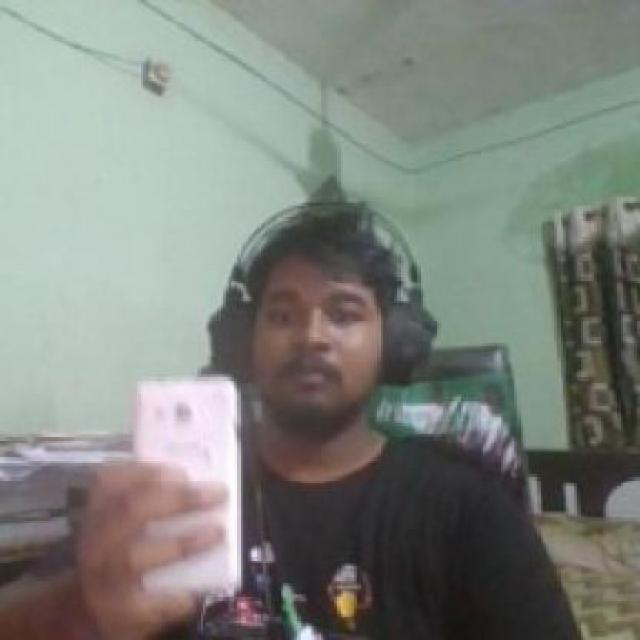Phone: (127, 377, 243, 592)
